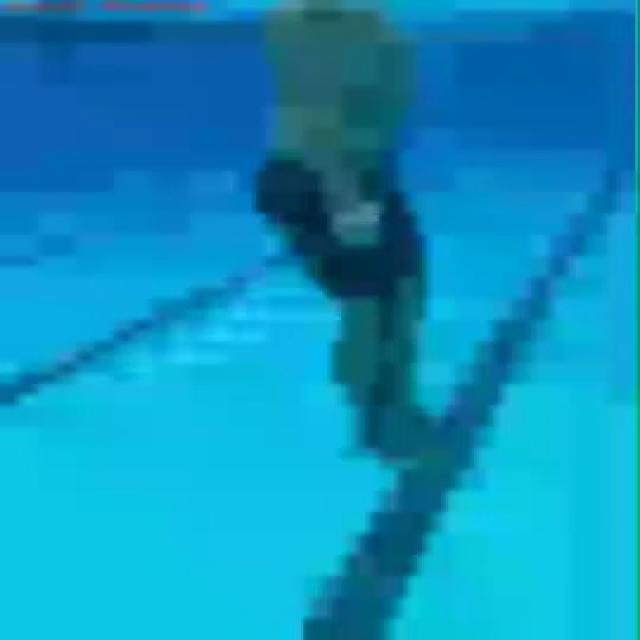Drowning: (240, 0, 480, 474)
